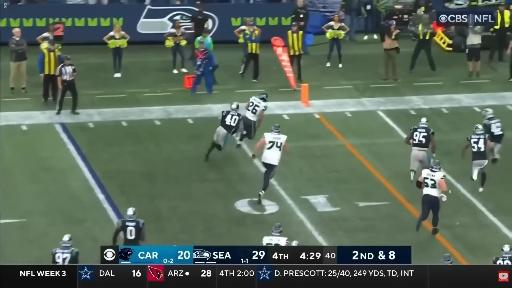Helmet: (271, 223, 283, 236), (126, 207, 136, 220), (61, 235, 72, 246), (482, 108, 493, 118), (431, 160, 441, 170), (474, 124, 484, 134), (258, 93, 268, 102), (502, 245, 510, 255), (419, 118, 428, 126), (271, 125, 280, 133), (231, 103, 239, 111), (291, 241, 298, 245)
Jersey: (262, 133, 287, 165), (422, 169, 445, 197), (120, 219, 144, 245), (467, 134, 487, 161), (411, 127, 434, 149), (220, 111, 241, 134), (246, 97, 266, 121), (484, 117, 503, 142), (52, 247, 78, 264), (263, 236, 289, 245), (493, 255, 512, 265)
Player: (252, 125, 289, 204), (416, 160, 450, 234), (205, 103, 242, 161), (405, 118, 436, 181), (236, 93, 268, 147), (462, 125, 487, 191), (113, 208, 145, 246), (483, 108, 504, 163), (52, 235, 79, 264), (263, 224, 298, 245), (493, 245, 511, 264)
